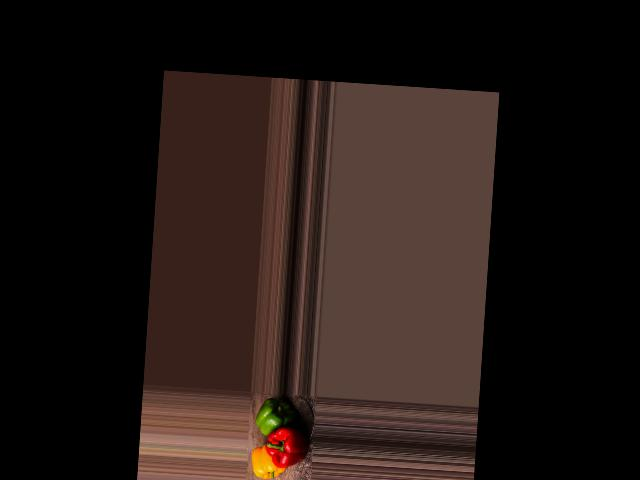bell_pepper: (248, 445, 287, 480)
